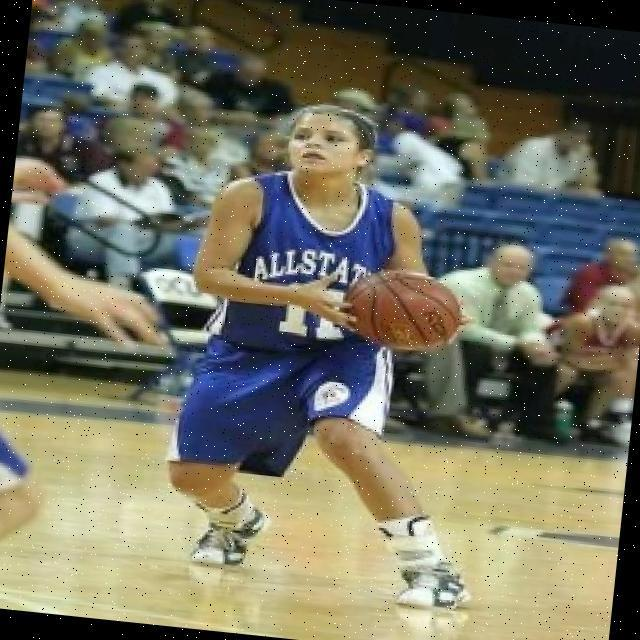ball: (335, 255, 469, 362)
